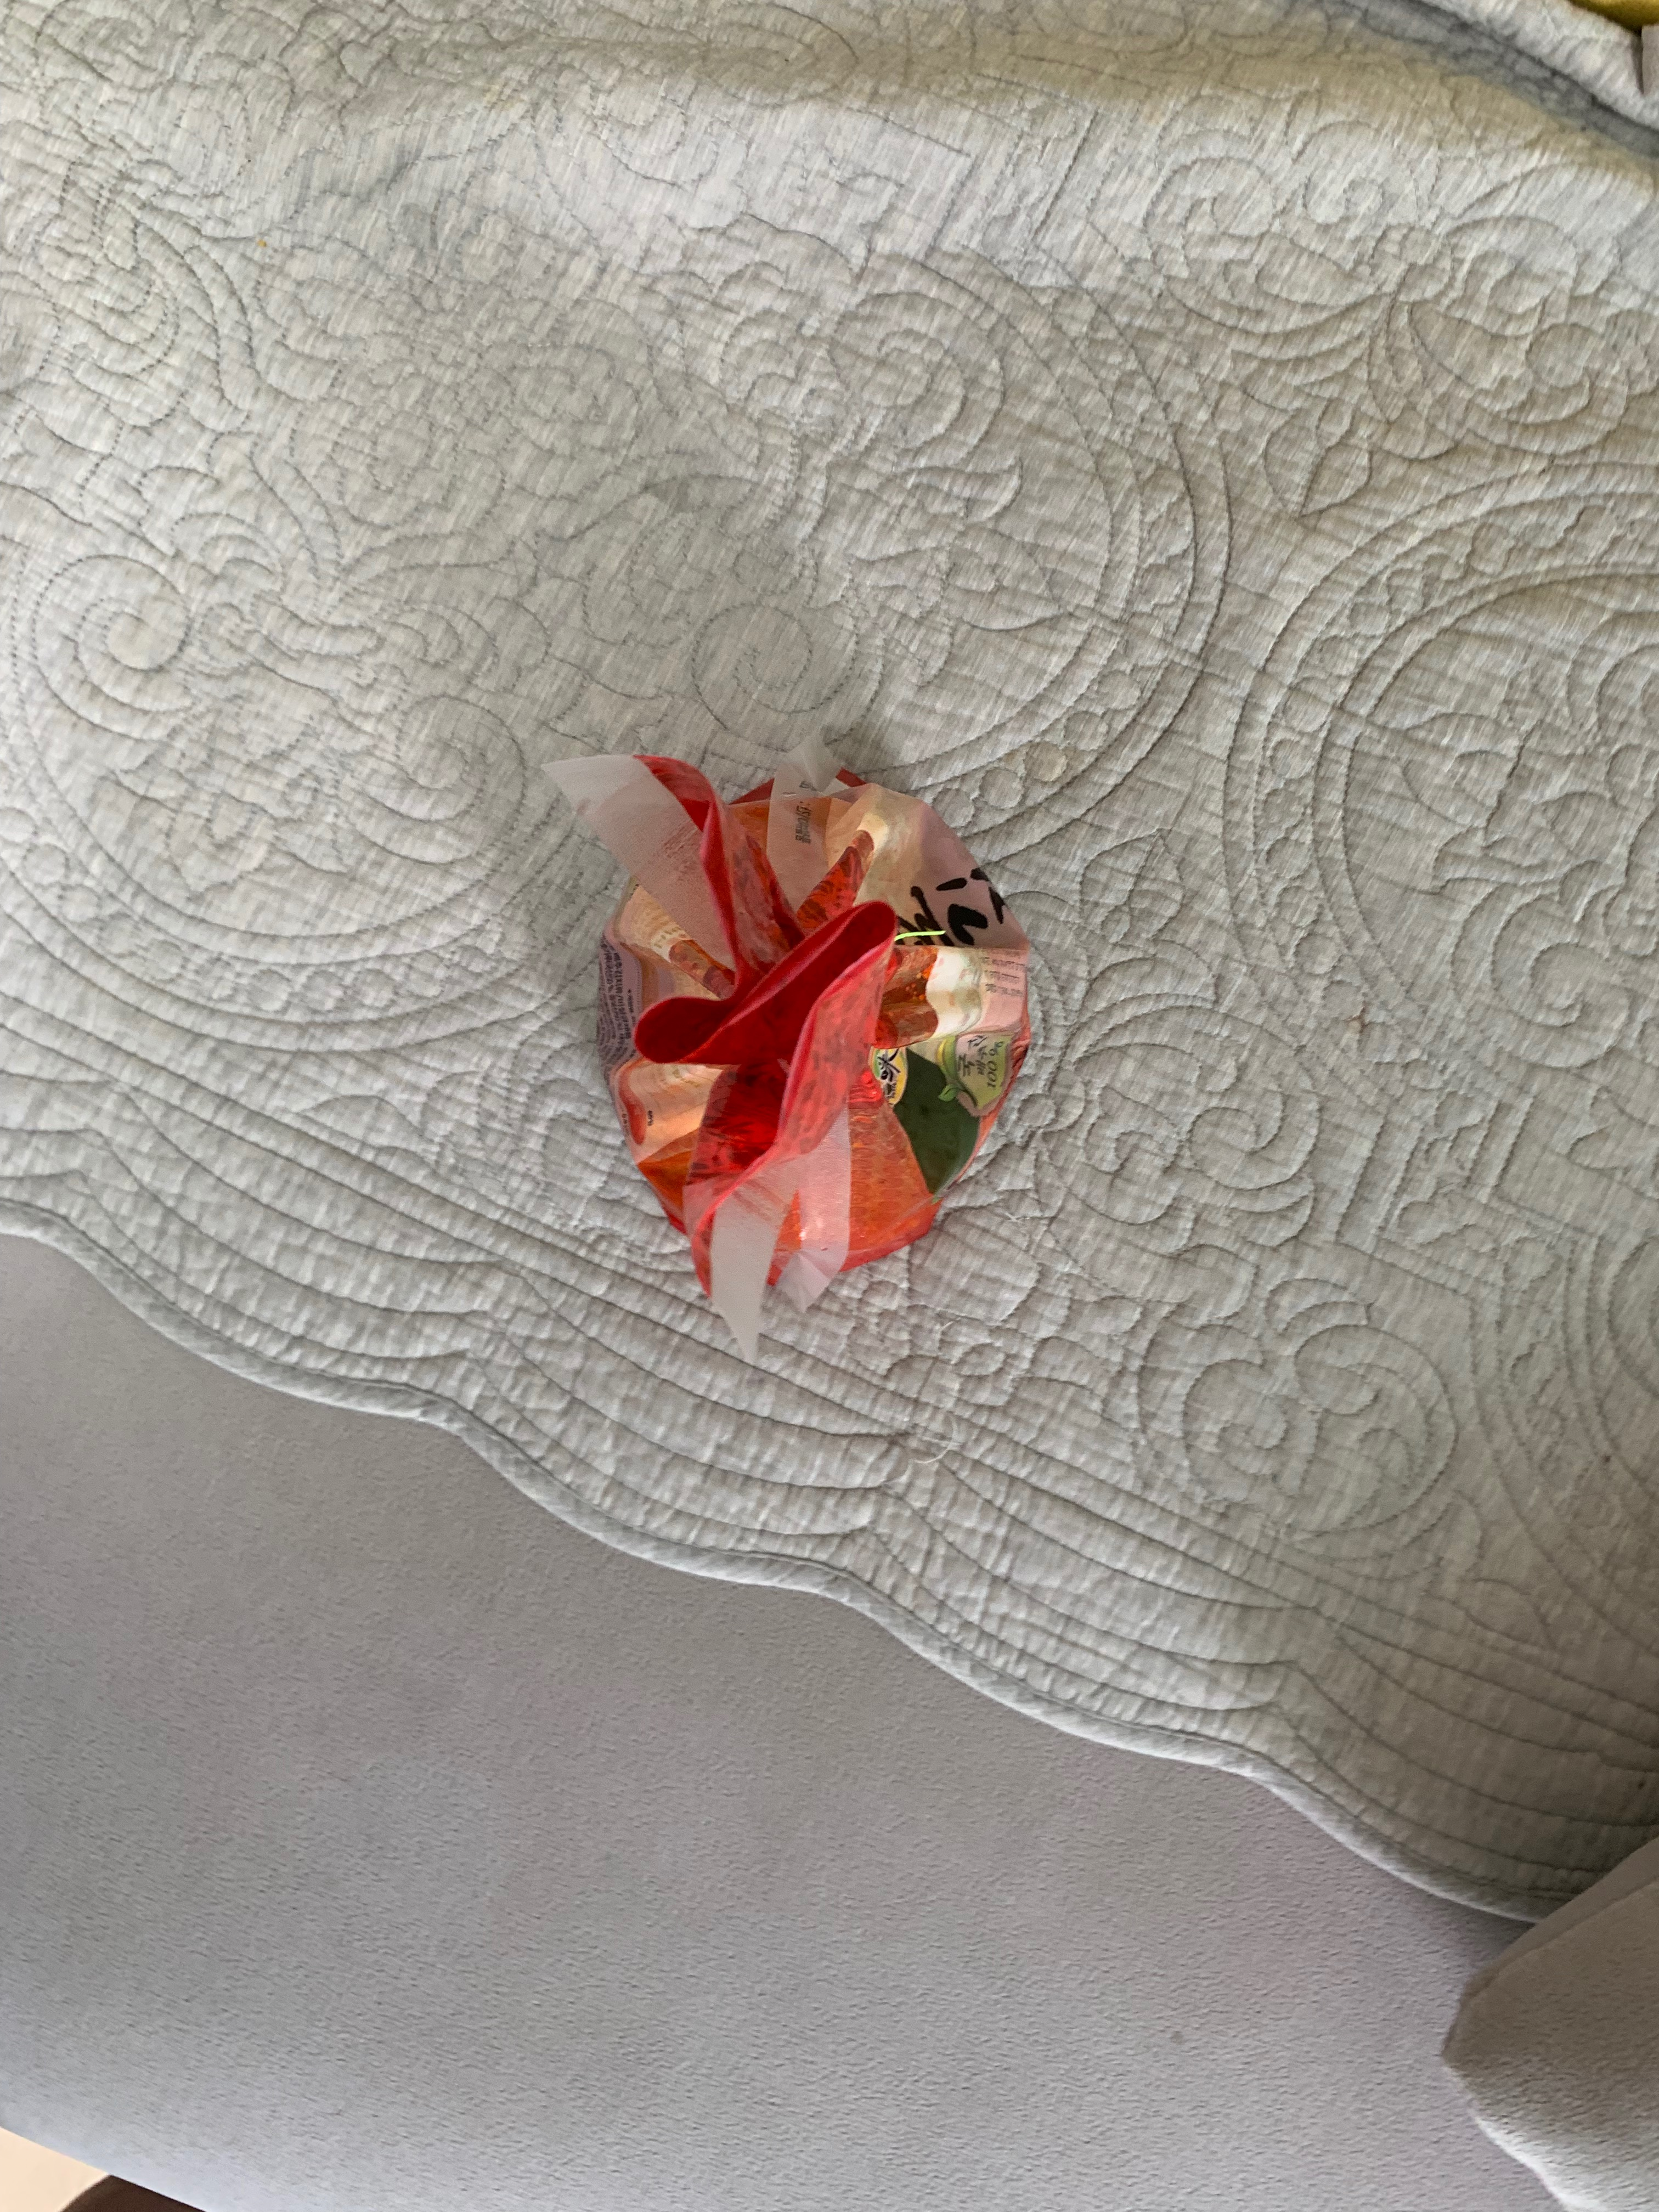kimchi: (606, 773, 1030, 1270)
